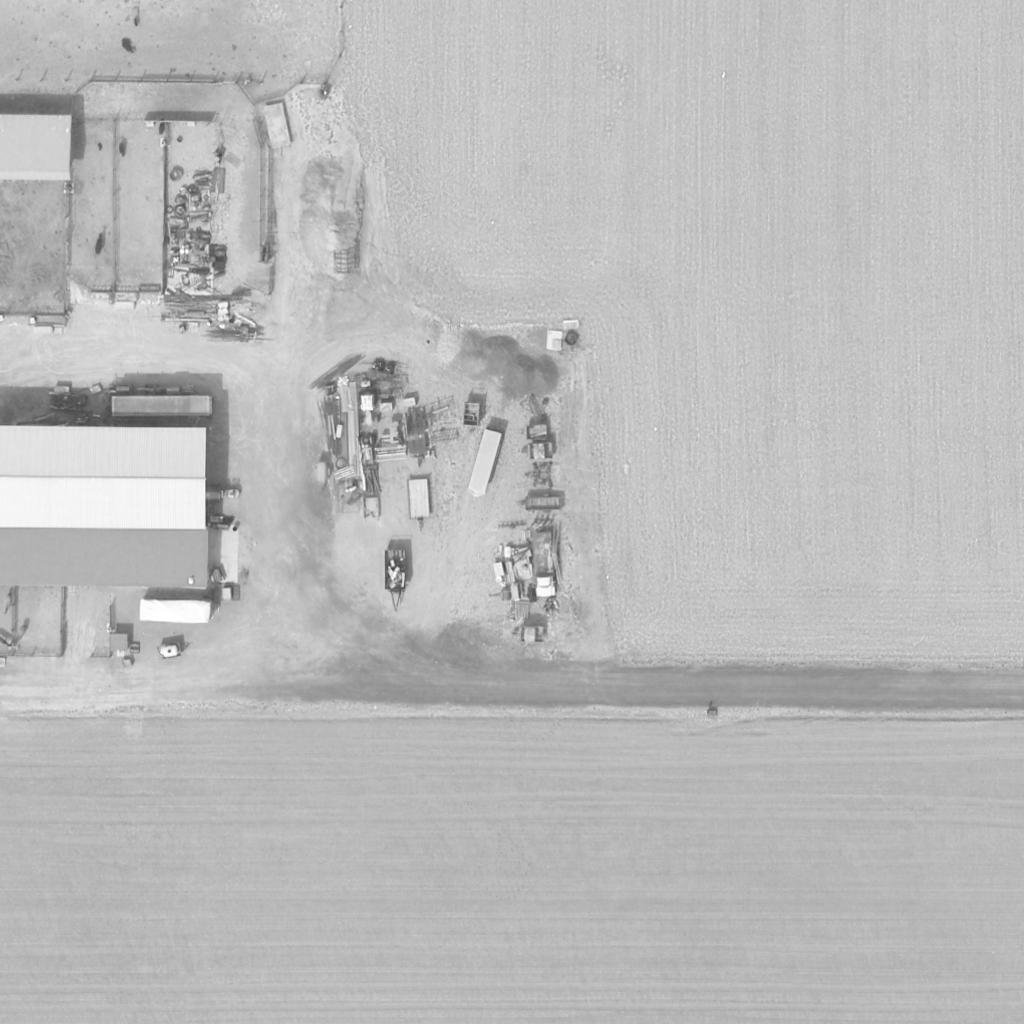vehicle: (527, 533, 559, 599), (358, 391, 382, 425)
